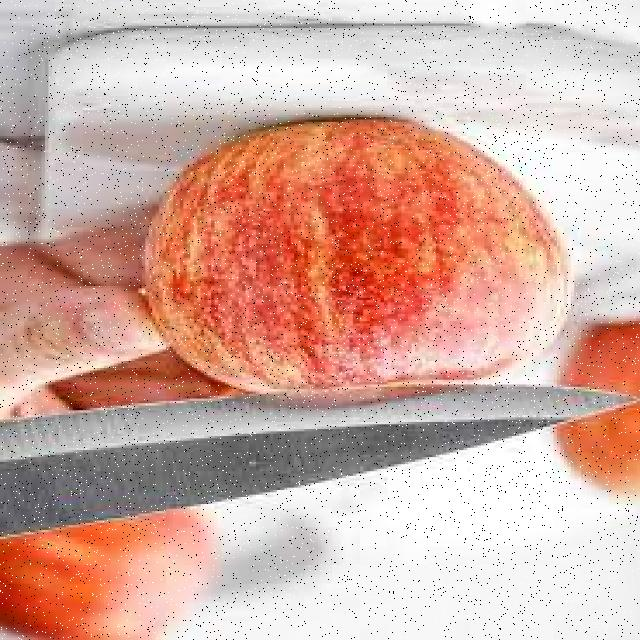Apple: (146, 111, 572, 394)
